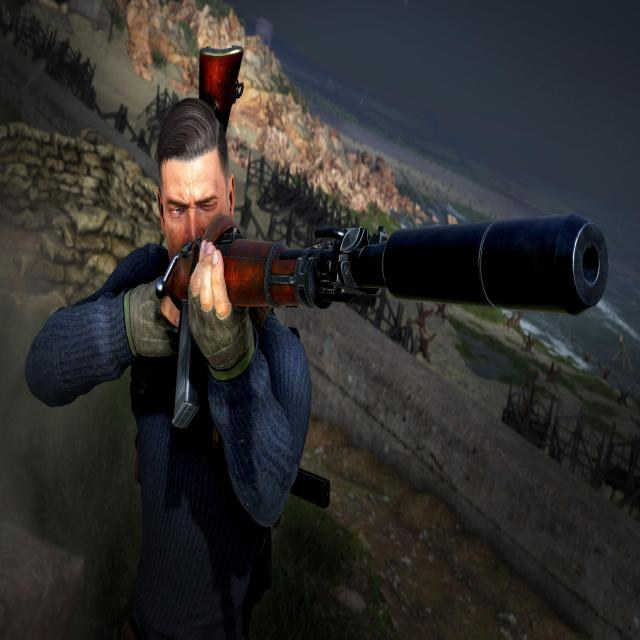weapon: (109, 199, 612, 435)
